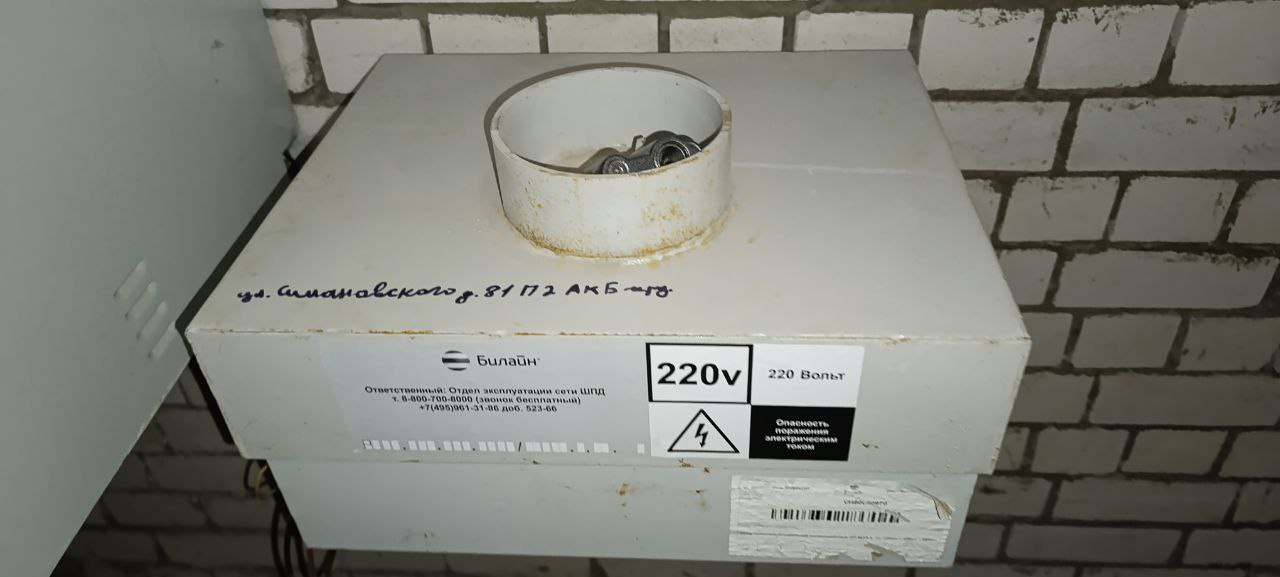shta-ps: (173, 44, 1041, 571)
